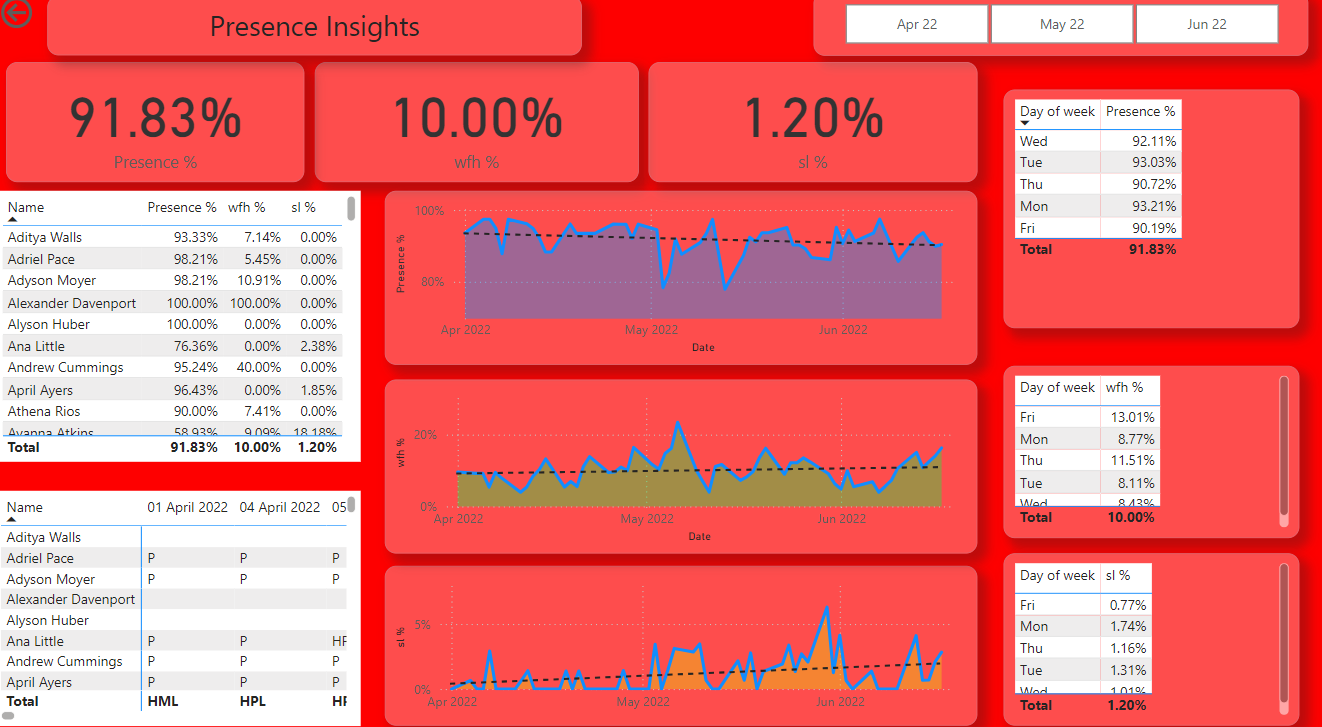

Layout of this report page (visuals, bound fields, positions):
{"tool":"powerbi","page":{"name":"Page 1","canvas":[1280,720],"ordinal":0},"visuals":[{"type":"card","fields":{"Values":["Measure Table (2).wfh %"]},"box":[307.6,67.6,312.5,115.8],"z":0},{"type":"card","fields":{"Values":["Measure Table (2).Presence %"]},"box":[9.7,67.6,288.3,115.8],"z":1000},{"type":"slicer","fields":{"Values":["Final Data.Month"]},"box":[789,0,477.8,61.5],"z":2000},{"type":"card","fields":{"Values":["Measure Table (2).sl %"]},"box":[629.8,67.6,317.3,115.8],"z":3000},{"type":"tableEx","fields":{"Values":["Final Data.Name","Measure Table (2).Presence %","Measure Table (2).wfh %","Measure Table (2).sl %"]},"box":[0,191.8,352.3,261.8],"z":4000},{"type":"pivotTable","fields":{"Rows":["Final Data.Name"],"Values":["Final Data.Value"],"Columns":["Final Data.Date"]},"box":[0,481.4,352.3,226.8],"z":5000},{"type":"areaChart","fields":{"Category":["Final Data.Date"],"Y":["Measure Table (2).Presence %"]},"box":[375.2,191.8,571.9,167.7],"z":6000},{"type":"actionButton","box":[0,0,100.1,39.8],"z":7000},{"type":"areaChart","fields":{"Category":["Final Data.Date"],"Y":["Measure Table (2).sl %"]},"box":[375.2,553.8,571.9,154.4],"z":8000},{"type":"areaChart","fields":{"Category":["Final Data.Date"],"Y":["Measure Table (2).wfh %"]},"box":[375.2,374,571.9,167.7],"z":9000},{"type":"tableEx","fields":{"Values":["Final Data.Day of week","Measure Table (2).Presence %"]},"box":[972.4,94.1,285.9,230.4],"z":10000},{"type":"tableEx","fields":{"Values":["Final Data.Day of week","Measure Table (2).wfh %"]},"box":[972.9,360.9,285.4,166],"z":11000},{"type":"tableEx","fields":{"Values":["Final Data.Day of week","Measure Table (2).sl %"]},"box":[972.9,542,285.4,166],"z":12000},{"type":"textbox","box":[49.5,3.6,516.4,57.9],"z":13000}]}

Visuals, with their boxes in screenshot pixels (x1, y1, x2, y2), scaled from the page's 1280x720 canvas onto the 1322x727 screenshot:
card - Measure Table (2).wfh %: {"x1": 318, "y1": 68, "x2": 640, "y2": 185}
card - Measure Table (2).Presence %: {"x1": 10, "y1": 68, "x2": 308, "y2": 185}
slicer - Final Data.Month: {"x1": 815, "y1": 0, "x2": 1308, "y2": 62}
card - Measure Table (2).sl %: {"x1": 650, "y1": 68, "x2": 978, "y2": 185}
tableEx - Final Data.Name x Measure Table (2).Presence %: {"x1": 0, "y1": 194, "x2": 364, "y2": 458}
pivotTable - Final Data.Name x Final Data.Value: {"x1": 0, "y1": 486, "x2": 364, "y2": 715}
areaChart - Final Data.Date x Measure Table (2).Presence %: {"x1": 388, "y1": 194, "x2": 978, "y2": 363}
actionButton: {"x1": 0, "y1": 0, "x2": 103, "y2": 40}
areaChart - Final Data.Date x Measure Table (2).sl %: {"x1": 388, "y1": 559, "x2": 978, "y2": 715}
areaChart - Final Data.Date x Measure Table (2).wfh %: {"x1": 388, "y1": 378, "x2": 978, "y2": 547}
tableEx - Final Data.Day of week x Measure Table (2).Presence %: {"x1": 1004, "y1": 95, "x2": 1300, "y2": 328}
tableEx - Final Data.Day of week x Measure Table (2).wfh %: {"x1": 1005, "y1": 364, "x2": 1300, "y2": 532}
tableEx - Final Data.Day of week x Measure Table (2).sl %: {"x1": 1005, "y1": 547, "x2": 1300, "y2": 715}
textbox: {"x1": 51, "y1": 4, "x2": 584, "y2": 62}
